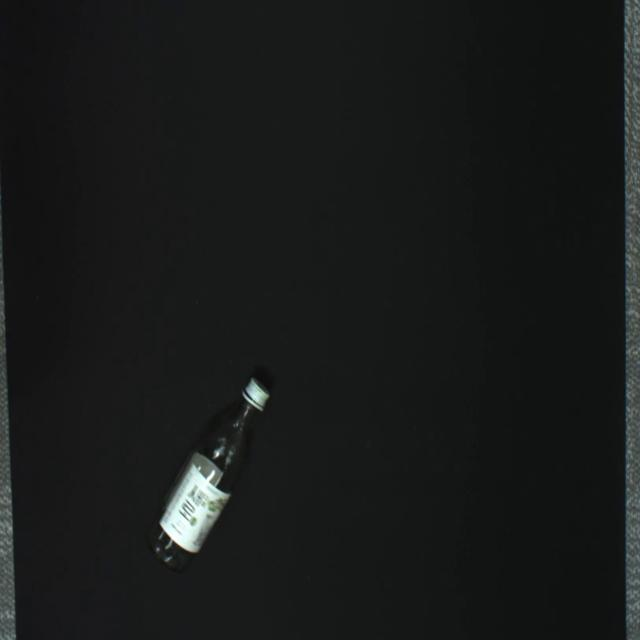soju-bottle: (146, 377, 270, 573)
